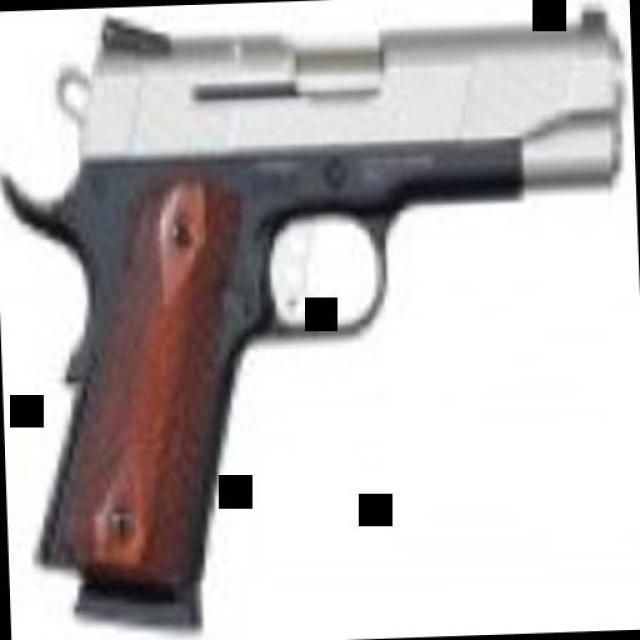gun: (7, 0, 638, 605)
